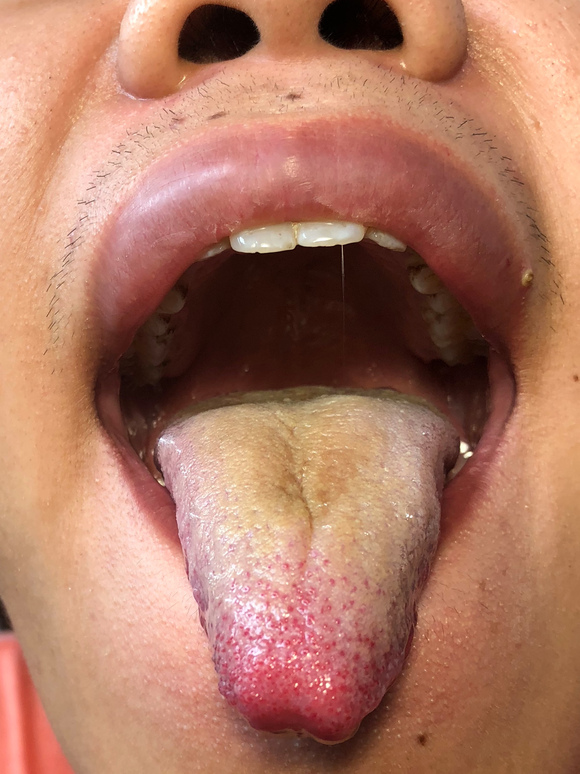hongdianshe: (284, 602, 294, 615), (327, 575, 337, 587), (323, 639, 331, 653), (282, 559, 290, 572), (351, 652, 360, 663), (321, 619, 328, 633), (322, 557, 331, 567)
hongshe: (156, 386, 460, 740)
huangtaishe: (156, 386, 460, 740)
shoushe: (156, 386, 460, 740)
